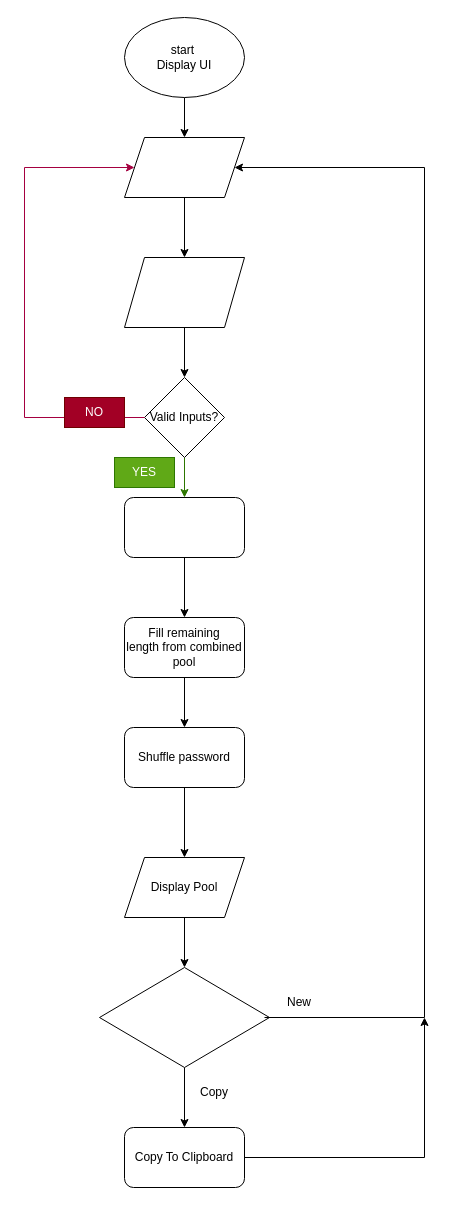
Image size: 450x1205. Some labels were removed from this diagram. Each missing label, with the box of its shape:
Click Generate: (124, 256, 244, 328)
Copy or Generate New: (98, 966, 270, 1068)
Select 1 char from each pool: (124, 496, 244, 558)
Select Options: (124, 136, 244, 198)
